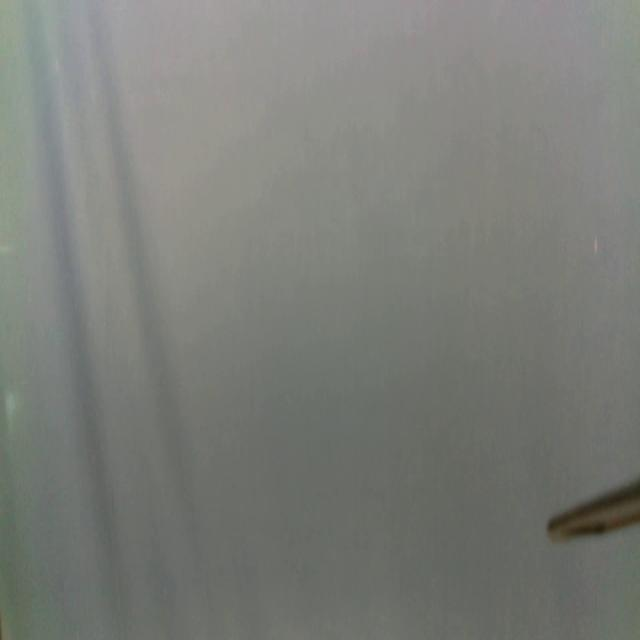hole: (594, 234, 600, 256)
